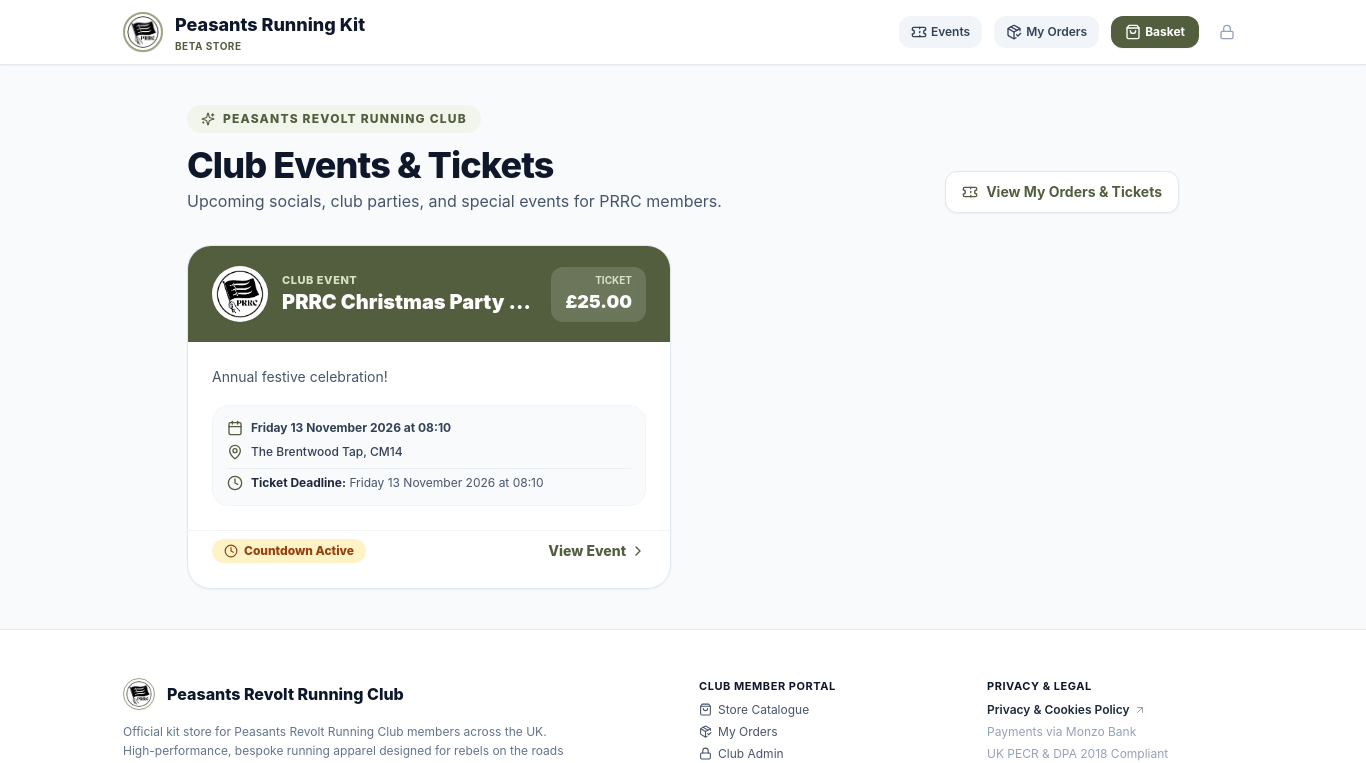
Scenario: ClubEventsPage (/events) › lists upcoming events and shows a countdown when clicking an event whose sale has not started
Expected: the heading "PRRC Christmas Party 2026" is shown, [282,288,535,316]
Click the element with test id "event-card". click: x=429, y=417
box: [187,245,671,589]
(page scrolled)
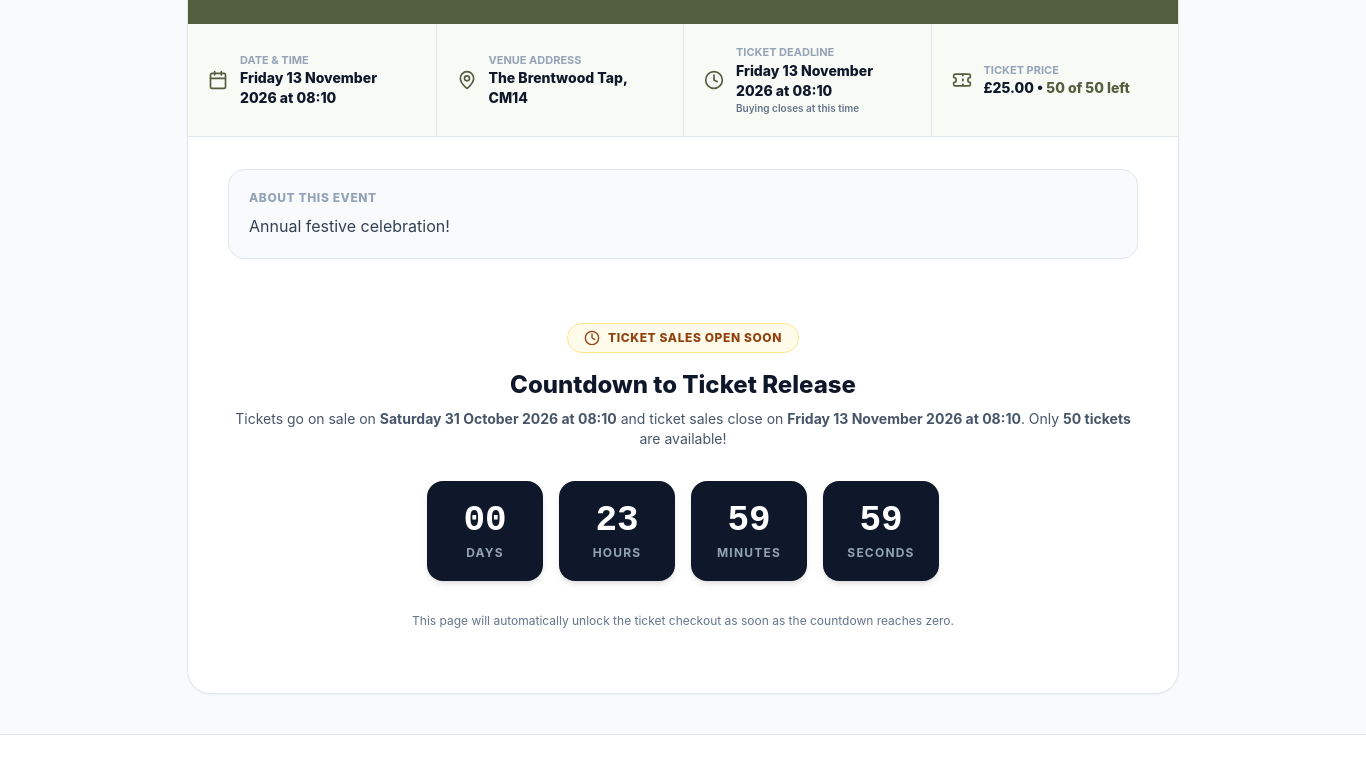
Expected: the element with test id "event-countdown" is shown, [228,298,1138,652]
Expected: the heading "Countdown to Ticket Release" is shown, [510,370,856,398]
